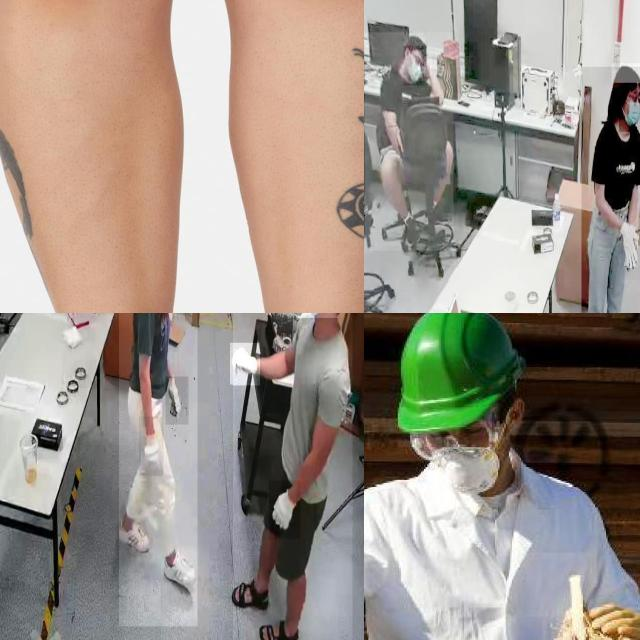face_mask: (419, 419, 499, 493), (619, 83, 640, 131), (403, 46, 427, 86)
glasses: (403, 414, 505, 462)
hand_glove: (580, 598, 640, 640), (269, 481, 301, 540), (139, 417, 164, 477), (620, 216, 640, 281), (230, 343, 260, 385), (166, 376, 188, 424)
hand_noglove: (424, 56, 432, 78)
head_helmet: (388, 313, 526, 435)
head_nohelmet: (611, 63, 640, 83), (404, 34, 426, 46)
person: (364, 313, 640, 640), (233, 313, 353, 640), (119, 313, 198, 627), (365, 32, 454, 252), (581, 66, 640, 313)
shoes: (159, 542, 200, 592), (116, 514, 150, 558)
